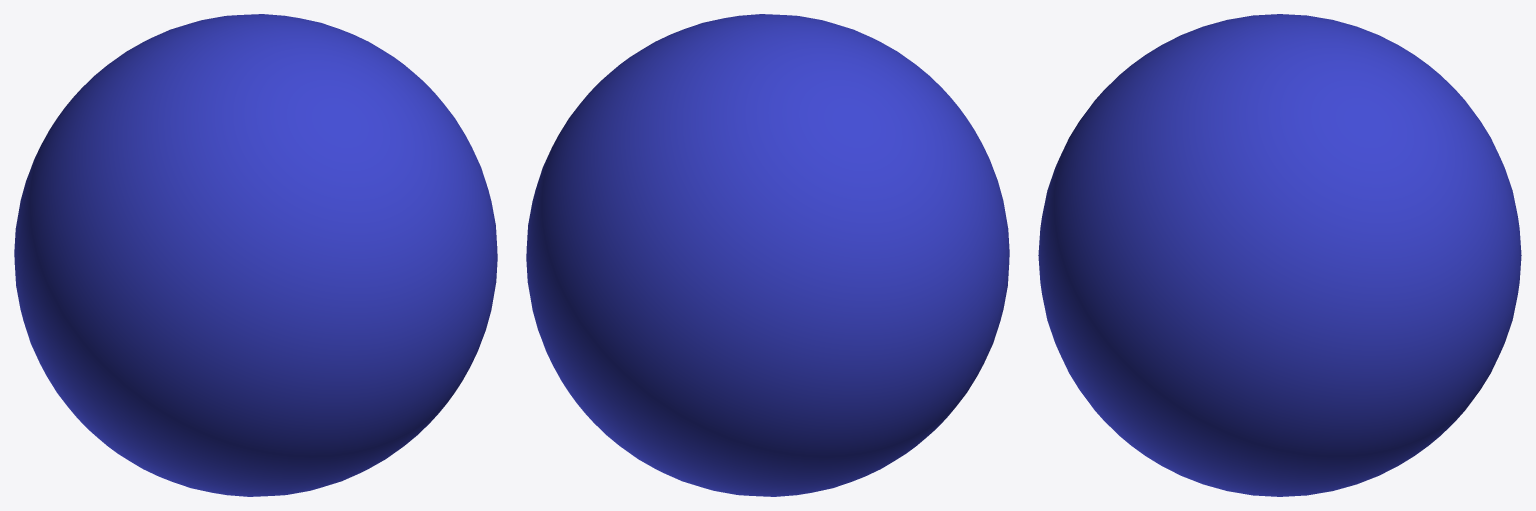
3 renders of one model, left to right at view 1: azimuth 30°, elevation 25°; view 2: azimuth 150°, elevation 25°; view 3: azimuth 270°, elevation 25°, orthographic.
Parts seen in each view (by area): view 1: root; view 2: root; view 3: root.
Boxes of the visible parts, left/top/right/bottom form: root: left=14, top=14, right=497, bottom=496; root: left=526, top=14, right=1009, bottom=496; root: left=1038, top=14, right=1521, bottom=496.
Bounding box in the file's own units: 2.18 × 2.18 × 2.18.
